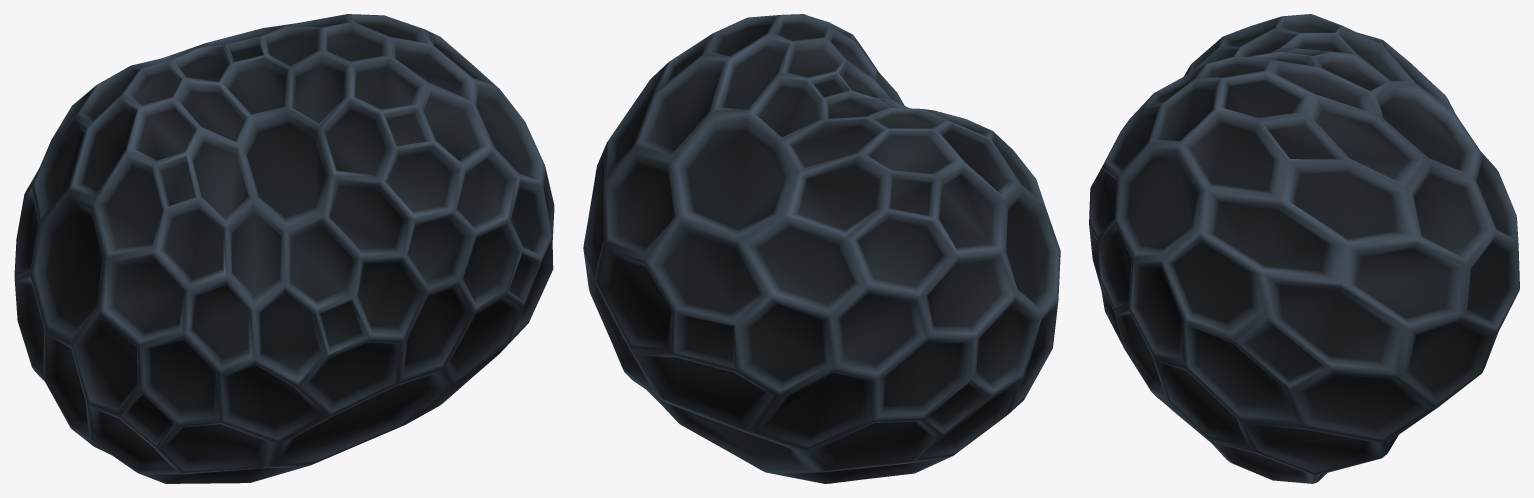
The model's file is trees-seeds-nuts-poppy-seed_v1.glb.
3 views of the same model, side by side, from view 1: azimuth 30°, elevation 25°; view 2: azimuth 150°, elevation 25°; view 3: azimuth 270°, elevation 25° (orthographic). The views are drawn at different scales.
Parts seen in each view (by area): view 1: Poppy Seed_v1; view 2: Poppy Seed_v1; view 3: Poppy Seed_v1.
Part boxes in pixels (x1,y1,x2,y2): Poppy Seed_v1: [14, 14, 554, 483]; Poppy Seed_v1: [583, 14, 1060, 483]; Poppy Seed_v1: [1089, 14, 1519, 483].
Size of the model in its own units: 0.1 by 0.0901 by 0.0845.
